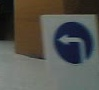left: (53, 21, 96, 64)
